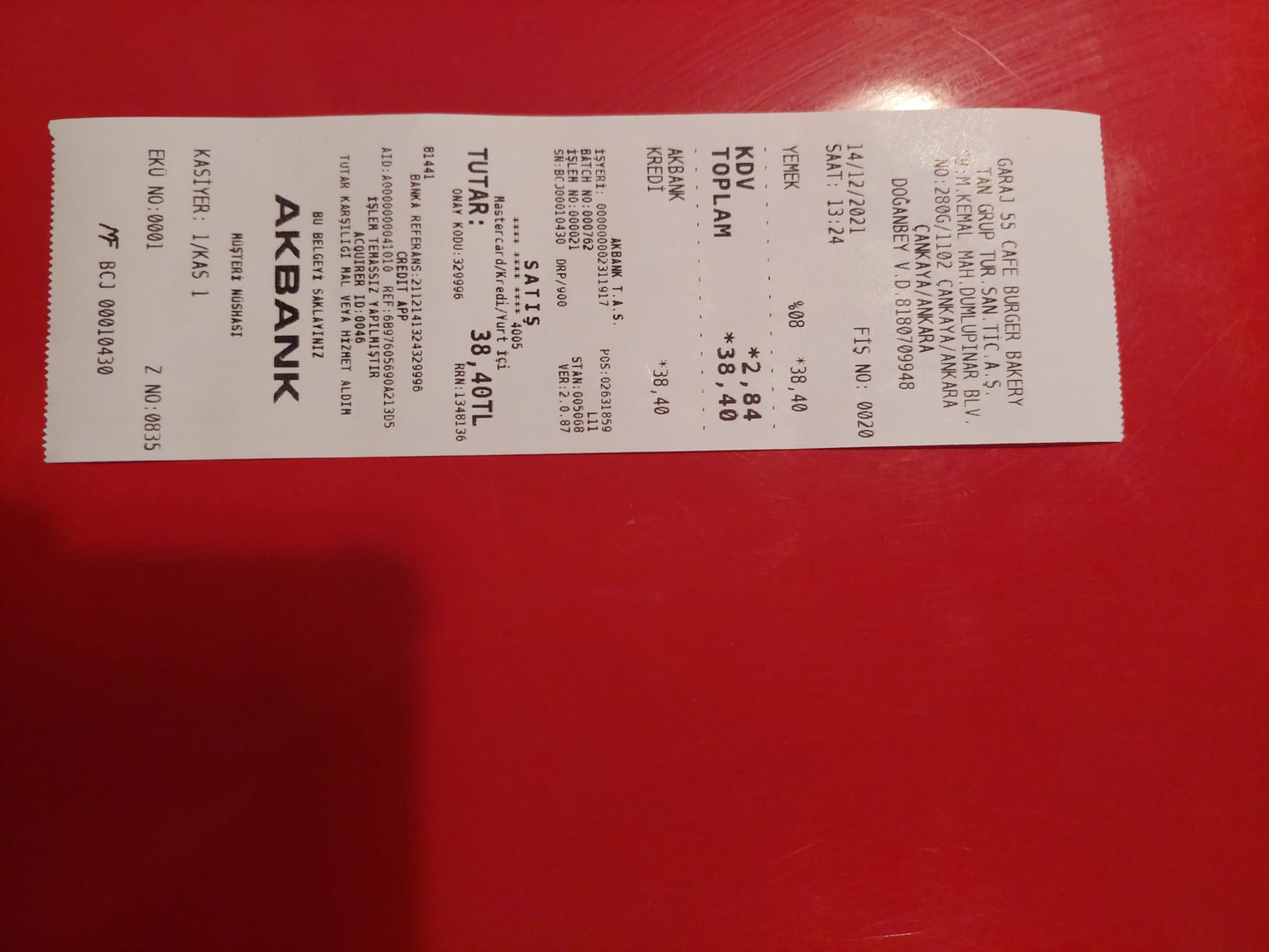date: (843, 133, 872, 241)
price: (712, 344, 741, 435)
workplace: (911, 145, 1027, 433)
